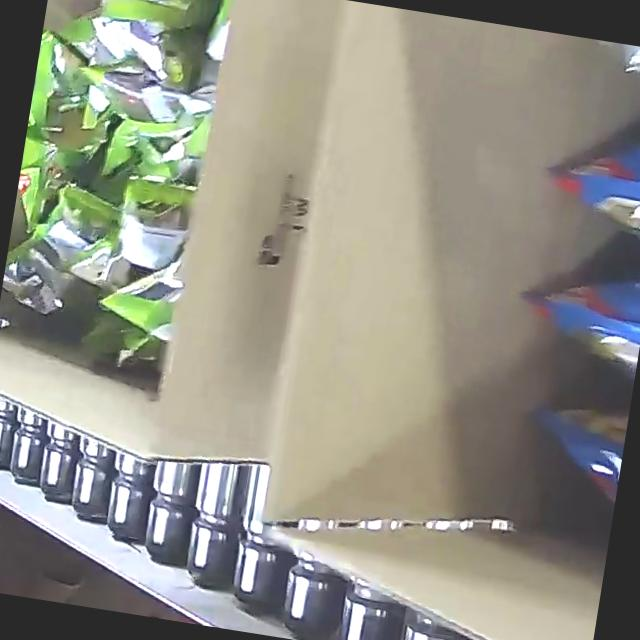paprika: (436, 27, 640, 583)
yogurt: (0, 0, 235, 368)
